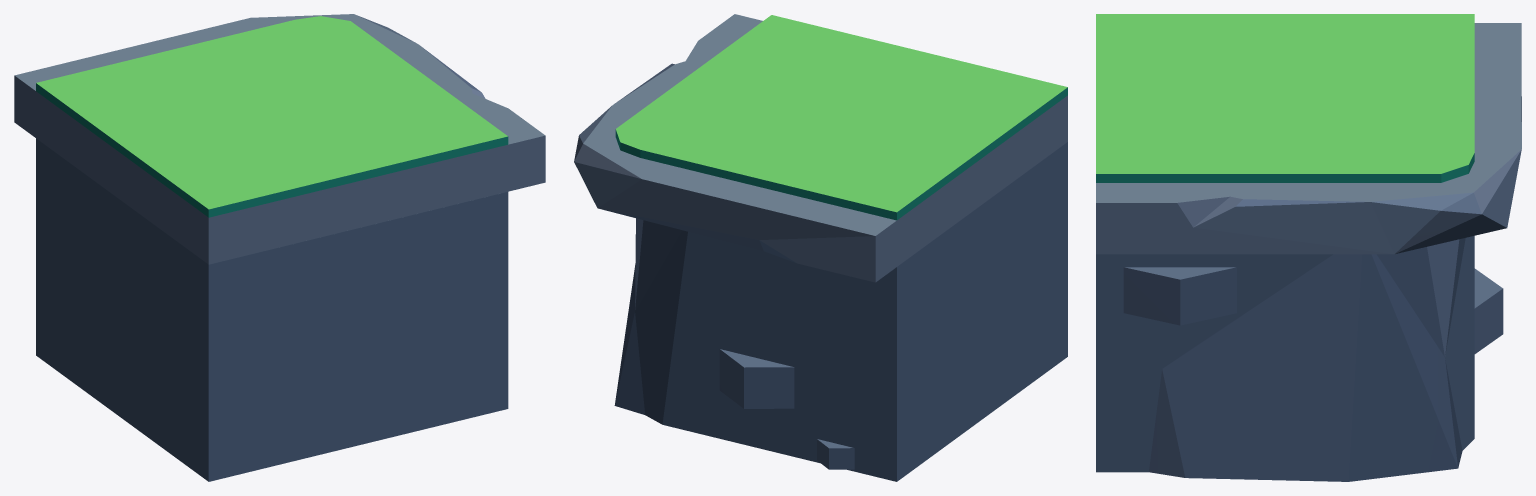
File: Highland_Corner_01.fbx
The picture shows the model from 3 angles, left to right: view 1: azimuth 30°, elevation 25°; view 2: azimuth 150°, elevation 25°; view 3: azimuth 270°, elevation 25°; orthographic projection. The views are drawn at different scales.
Parts seen in each view (by area): view 1: Highland_Corner_01; view 2: Highland_Corner_01; view 3: Highland_Corner_01.
Part boxes in pixels (x1,y1,x2,y2): Highland_Corner_01: (14,14,545,481); Highland_Corner_01: (574,14,1067,481); Highland_Corner_01: (1096,14,1521,481).
Size of the model in its own units: 1.5 by 1.16 by 1.5.
